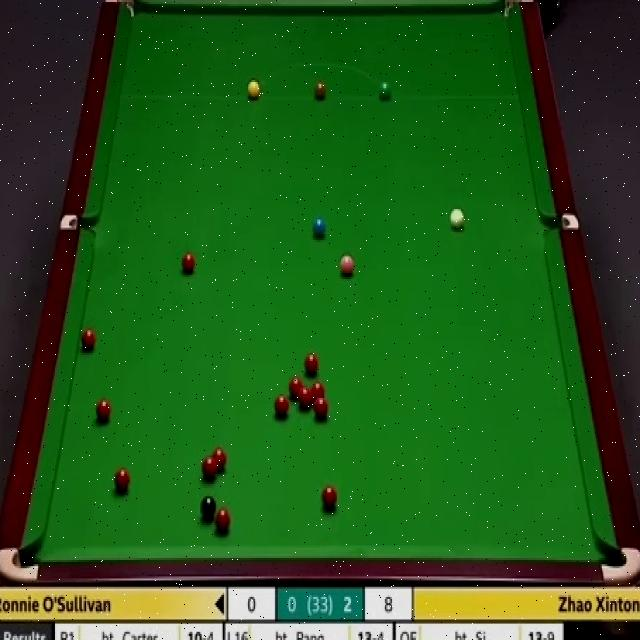black-ball: (200, 496, 217, 524)
blue-ball: (312, 215, 327, 239)
brown-ball: (314, 79, 327, 100)
green-ball: (378, 82, 392, 102)
pink-ball: (340, 254, 354, 276)
red-ball: (320, 485, 339, 513), (113, 466, 131, 494), (79, 328, 96, 355), (215, 507, 231, 535), (96, 396, 111, 423), (202, 455, 218, 480), (304, 352, 318, 378), (274, 396, 289, 420), (214, 446, 228, 471), (288, 376, 302, 400), (182, 251, 196, 273), (314, 398, 328, 419), (311, 383, 325, 403), (298, 386, 311, 406)
white-ball: (448, 204, 464, 231)
yellow-ball: (247, 80, 260, 102)
